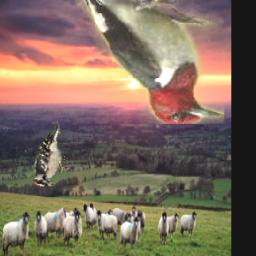Woodpecker: (68, 0, 224, 125), (33, 121, 68, 186)
